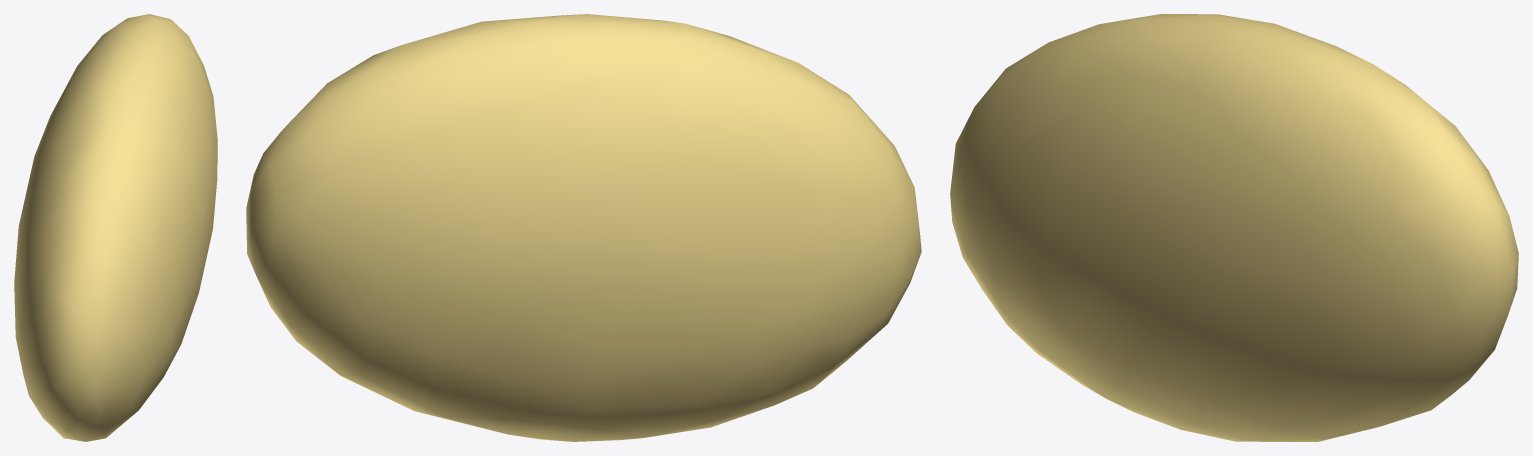
Rendered from fma73036_mm2789.glb.
The picture shows the model from 3 angles, left to right: view 1: azimuth 30°, elevation 25°; view 2: azimuth 150°, elevation 25°; view 3: azimuth 270°, elevation 25°; orthographic projection. The views are drawn at different scales.
Visible parts, largest first — view 1: FMA73036_MM2789; view 2: FMA73036_MM2789; view 3: FMA73036_MM2789.
Part boxes in pixels (left/top/right/bottom): FMA73036_MM2789: left=14, top=14, right=217, bottom=441; FMA73036_MM2789: left=246, top=14, right=921, bottom=441; FMA73036_MM2789: left=950, top=14, right=1518, bottom=441.
Size of the model in its own units: 0.00211 by 0.002 by 0.00243.
